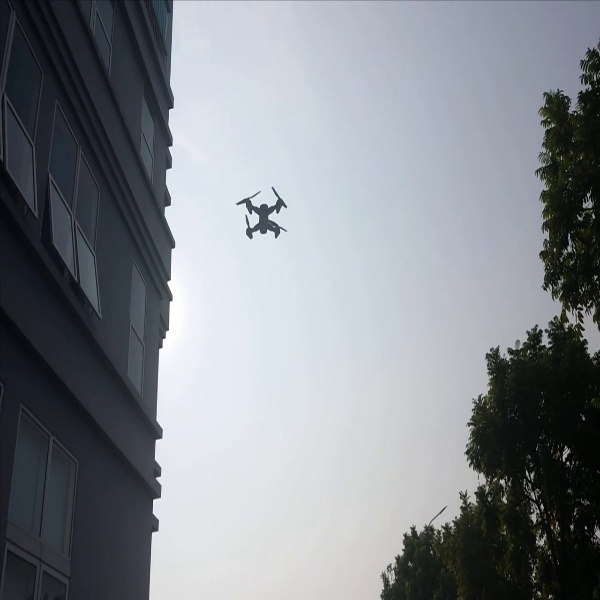drone: (224, 181, 301, 250)
